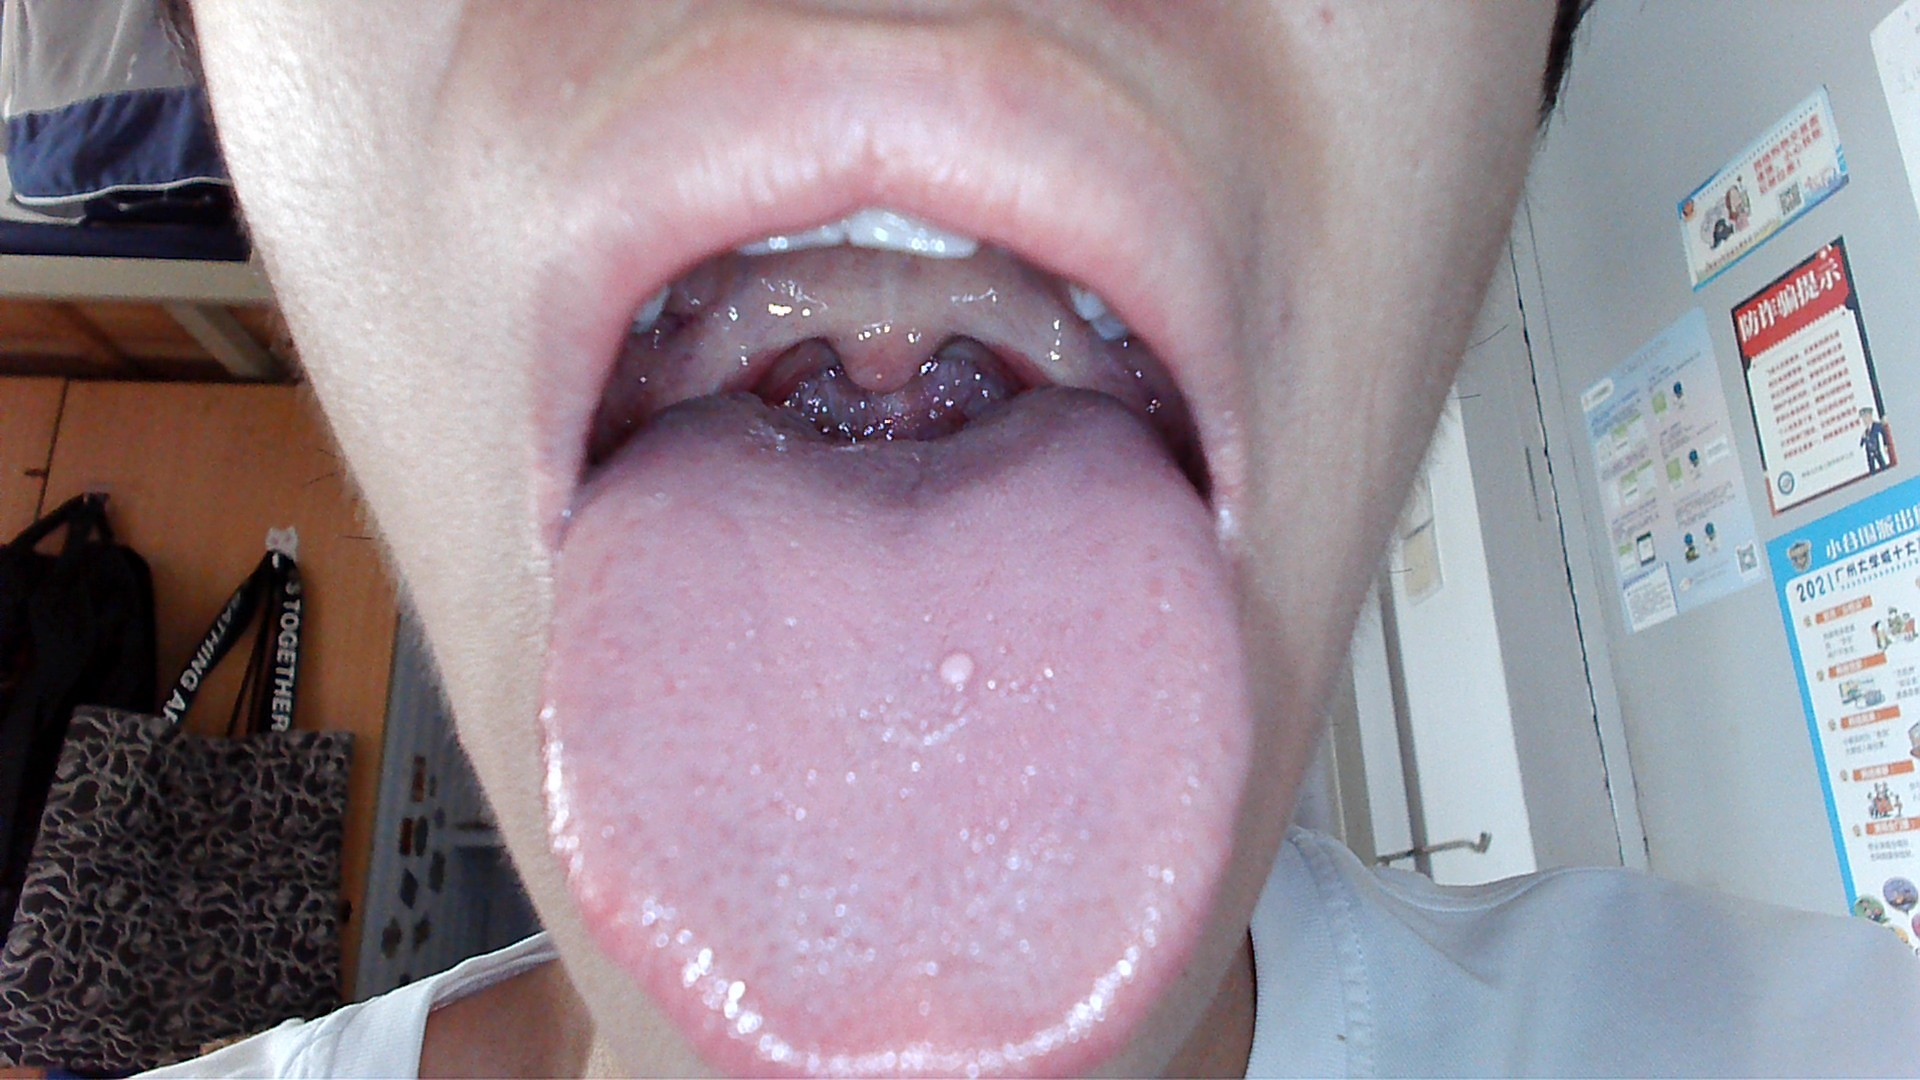throat: (986, 284, 1069, 400), (678, 328, 794, 396)
